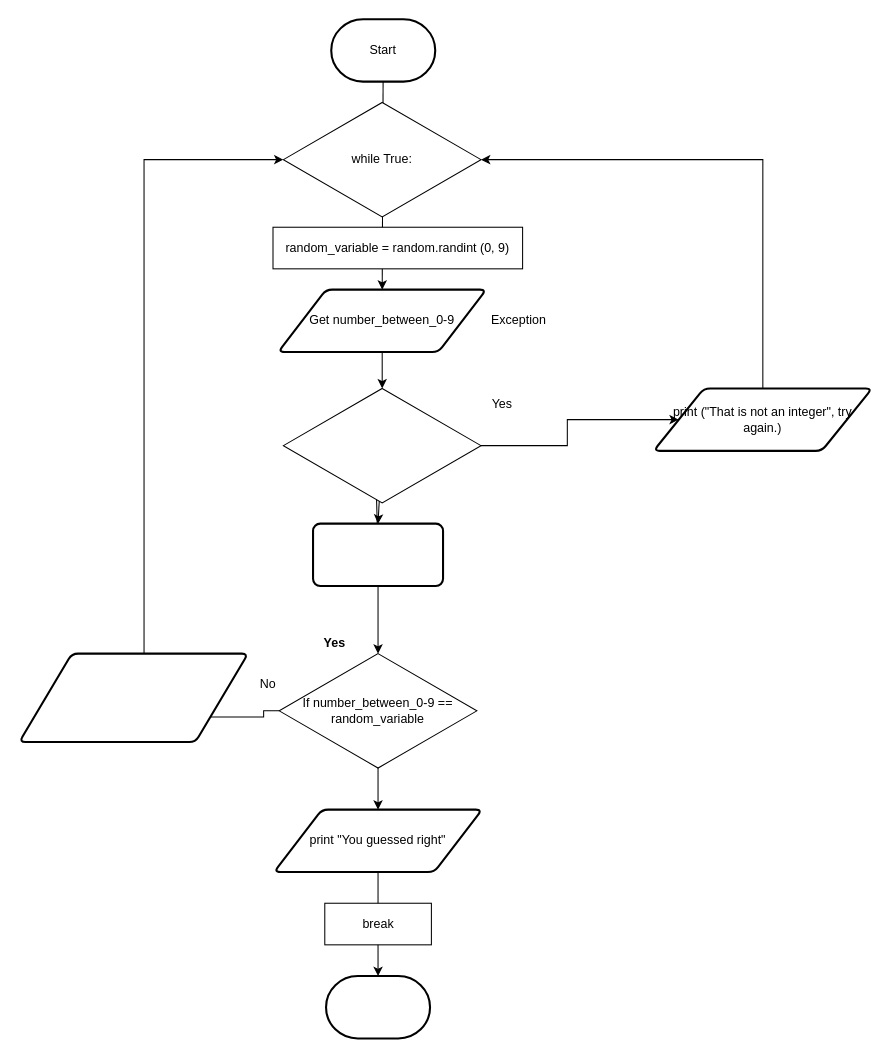
The diagram is 890 pixels wide and 1057 high, and some of its shapes have lost their labels. The centre of each missing label's shape, as x and y in pixels:
convert string to int: (x=377, y=554)
print "You guessed wrong, try again": (x=133, y=697)
Stop: (x=377, y=1006)
try: (x=381, y=445)
